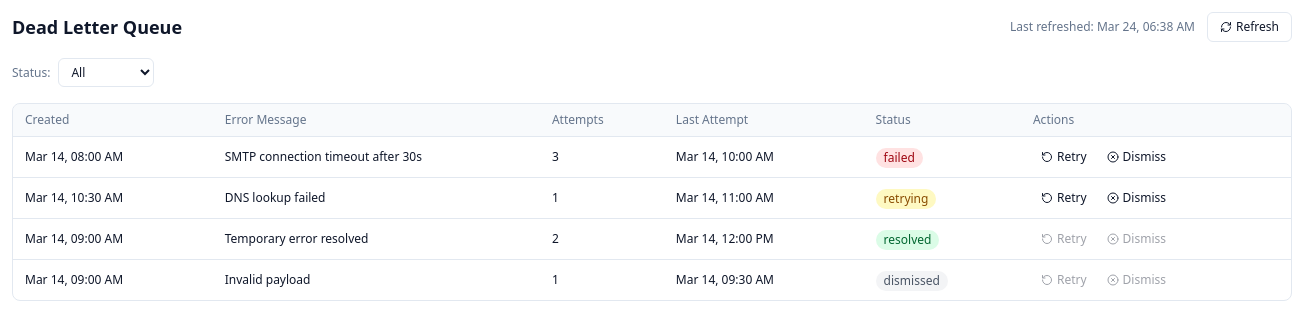
it: DLQMonitor › cancels dismiss confirmation
Click the button with test id "dlq-dismiss-evt1".
click(1136, 157)  # box [1099,145,1174,169]
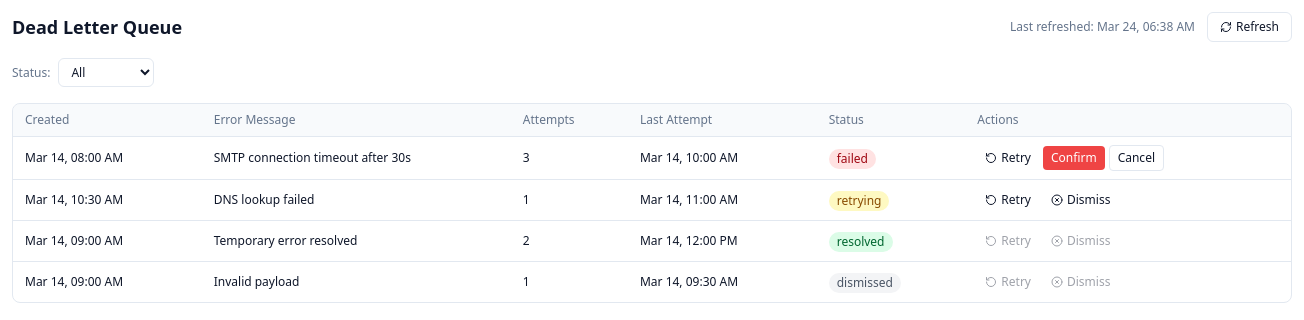
Click the button with test id "dlq-dismiss-cancel-evt1".
click(1136, 158)  # box [1109,145,1164,171]
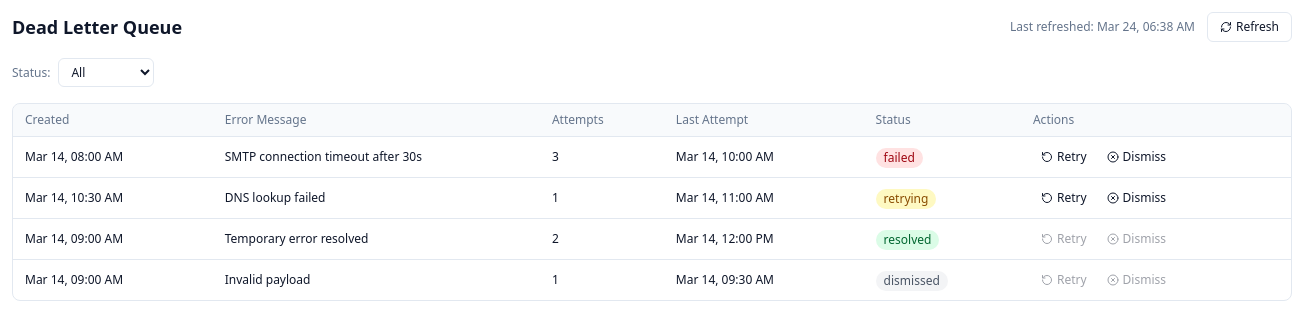
Expected: the button with test id "dlq-dismiss-confirm-evt1" is gone
